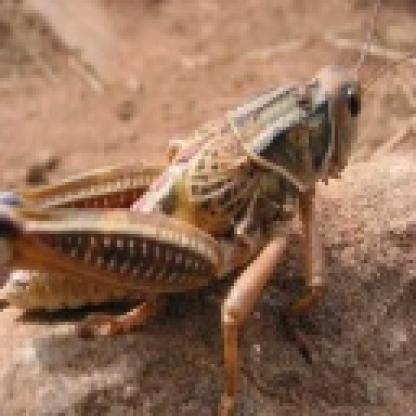grasshopper: (7, 8, 414, 401)
